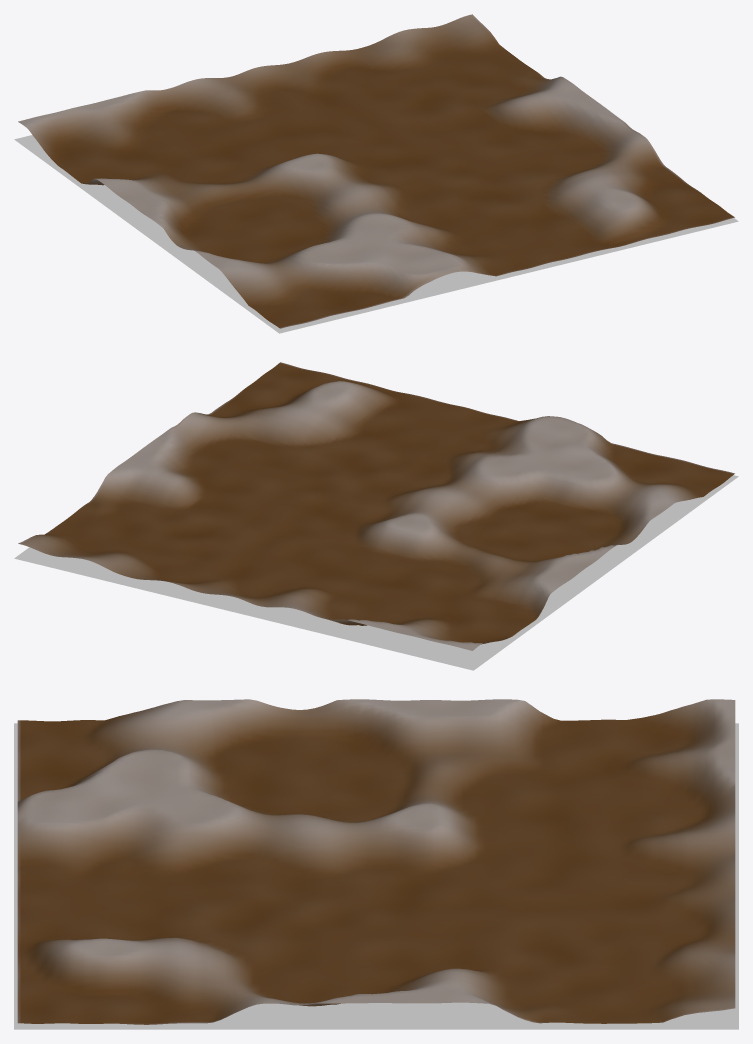
Rendered from unityexport.obj.
The picture shows the model from 3 angles, top to bottom: view 1: azimuth 30°, elevation 25°; view 2: azimuth 150°, elevation 25°; view 3: azimuth 270°, elevation 25°; orthographic projection. The views are drawn at different scales.
Visible parts, largest first — view 1: Mesh, Plane; view 2: Mesh, Plane; view 3: Mesh, Plane.
Part boxes in pixels (x1,y1,x2,y2): Mesh: (18,14,734,328); Plane: (14,135,738,333); Mesh: (18,362,734,650); Plane: (14,475,738,670); Mesh: (17,699,735,1024); Plane: (14,723,738,1029).
Bounding box in the file's own units: 1000 × 39.84 × 1000.
